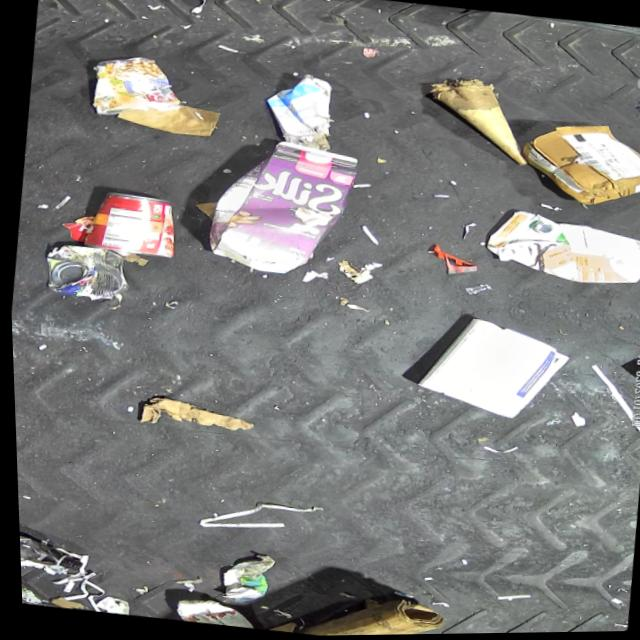can: (78, 187, 181, 261), (87, 50, 186, 125), (37, 240, 132, 305), (164, 595, 255, 630)
non_white_jug: (196, 132, 361, 282), (481, 206, 640, 293)
